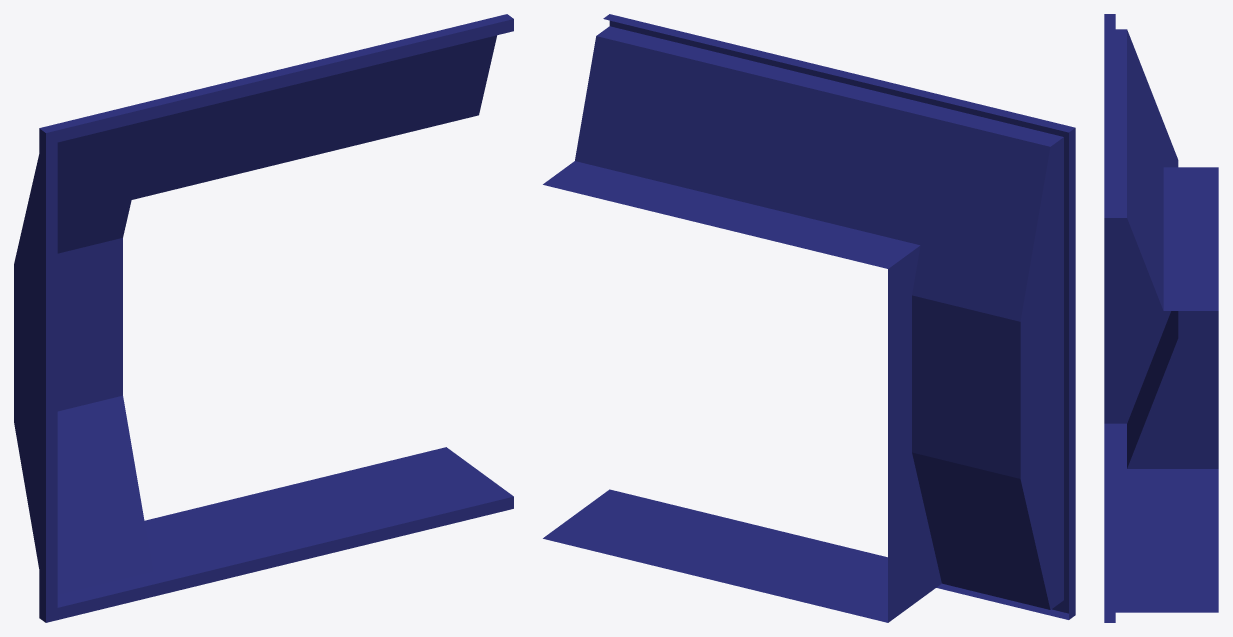
Rendered from Wall_A_4x4m_Separator.FBX.
3 views of the same model, side by side, from view 1: azimuth 30°, elevation 25°; view 2: azimuth 150°, elevation 25°; view 3: azimuth 270°, elevation 25° (orthographic). The views are drawn at different scales.
Parts seen in each view (by area): view 1: Wall_A_4x4m_Separator; view 2: Wall_A_4x4m_Separator; view 3: Wall_A_4x4m_Separator.
Boxes of the visible parts, box(x1,y1,x2,y2) form: Wall_A_4x4m_Separator: box(14, 14, 513, 622); Wall_A_4x4m_Separator: box(543, 14, 1075, 622); Wall_A_4x4m_Separator: box(1104, 14, 1218, 622).
Size of the model in its own units: 400 by 400 by 100.
